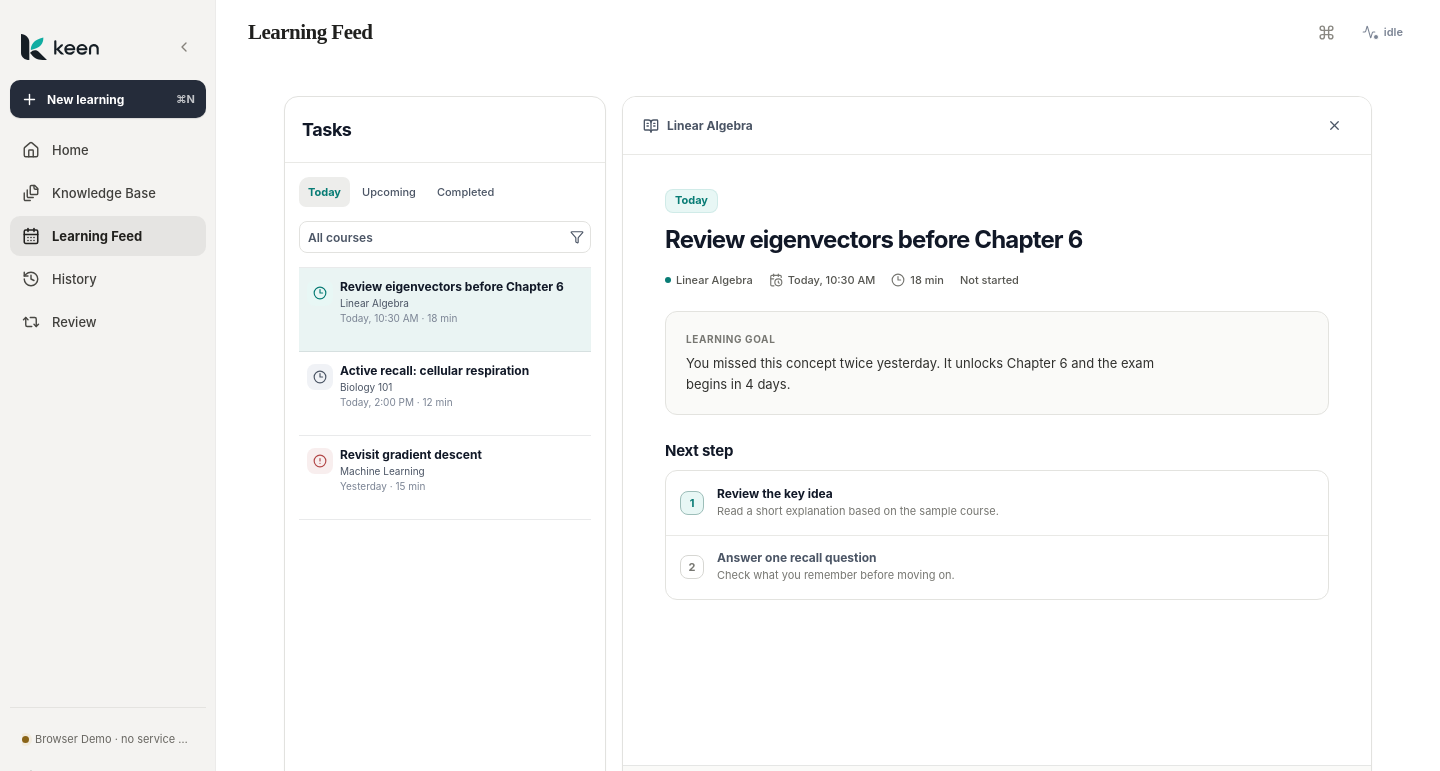
Test case: desktop workflow › opens the source-first Home Ask entry from the sidebar
The image size is (1440, 771).
Click the button "New learning ⌘N" at point(108, 99), box left=10, top=80, right=206, bottom=118
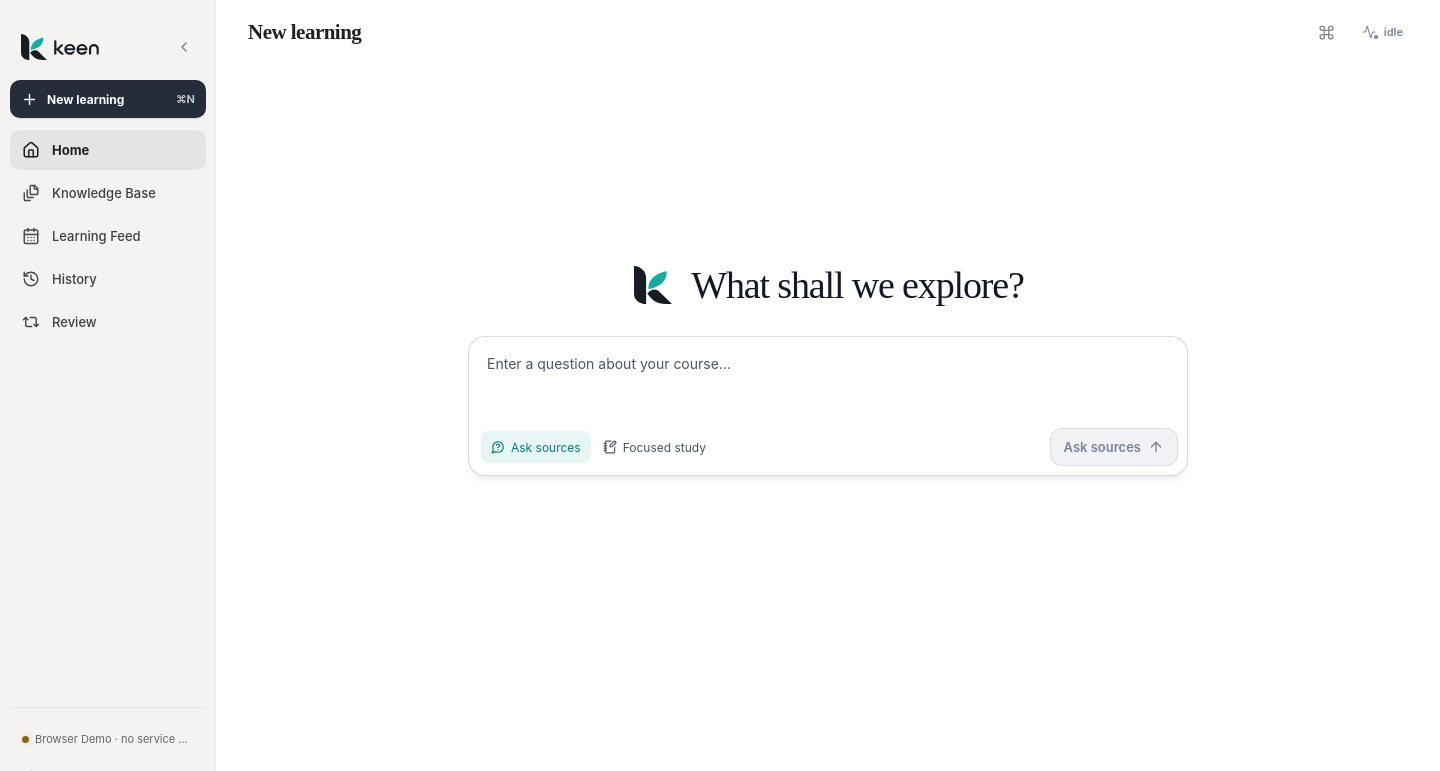
Check: the heading "What shall we explore?" is shown, box left=691, top=264, right=1024, bottom=306
Check: the text box with placeholder "Enter a question about your course…" is shown, box left=469, top=337, right=1187, bottom=419
Check: the 2nd button "Ask sources" is shown, box left=1050, top=428, right=1178, bottom=466
